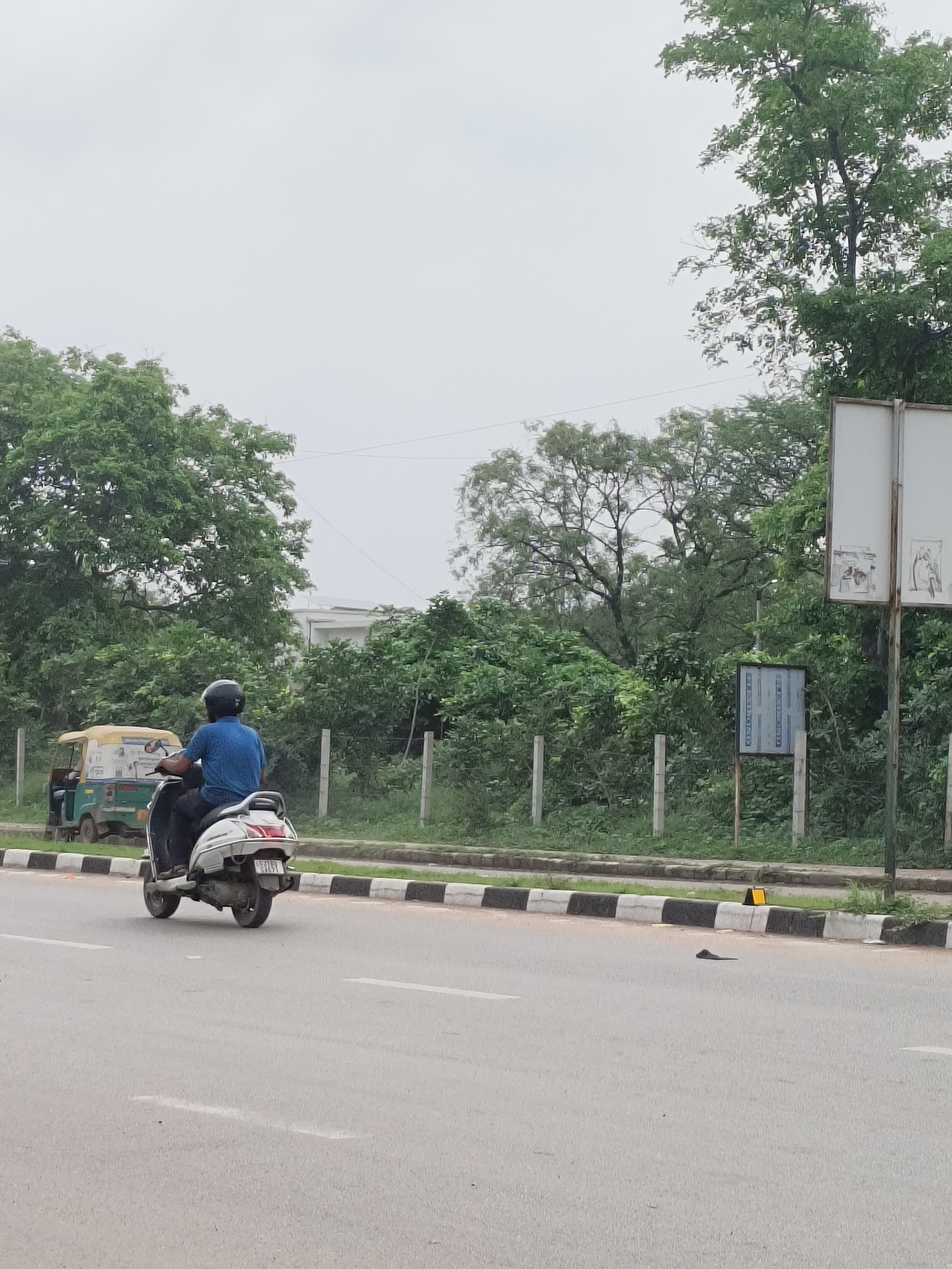BikeWithRider: (131, 665, 308, 932)
Helmet: (194, 673, 248, 725)
